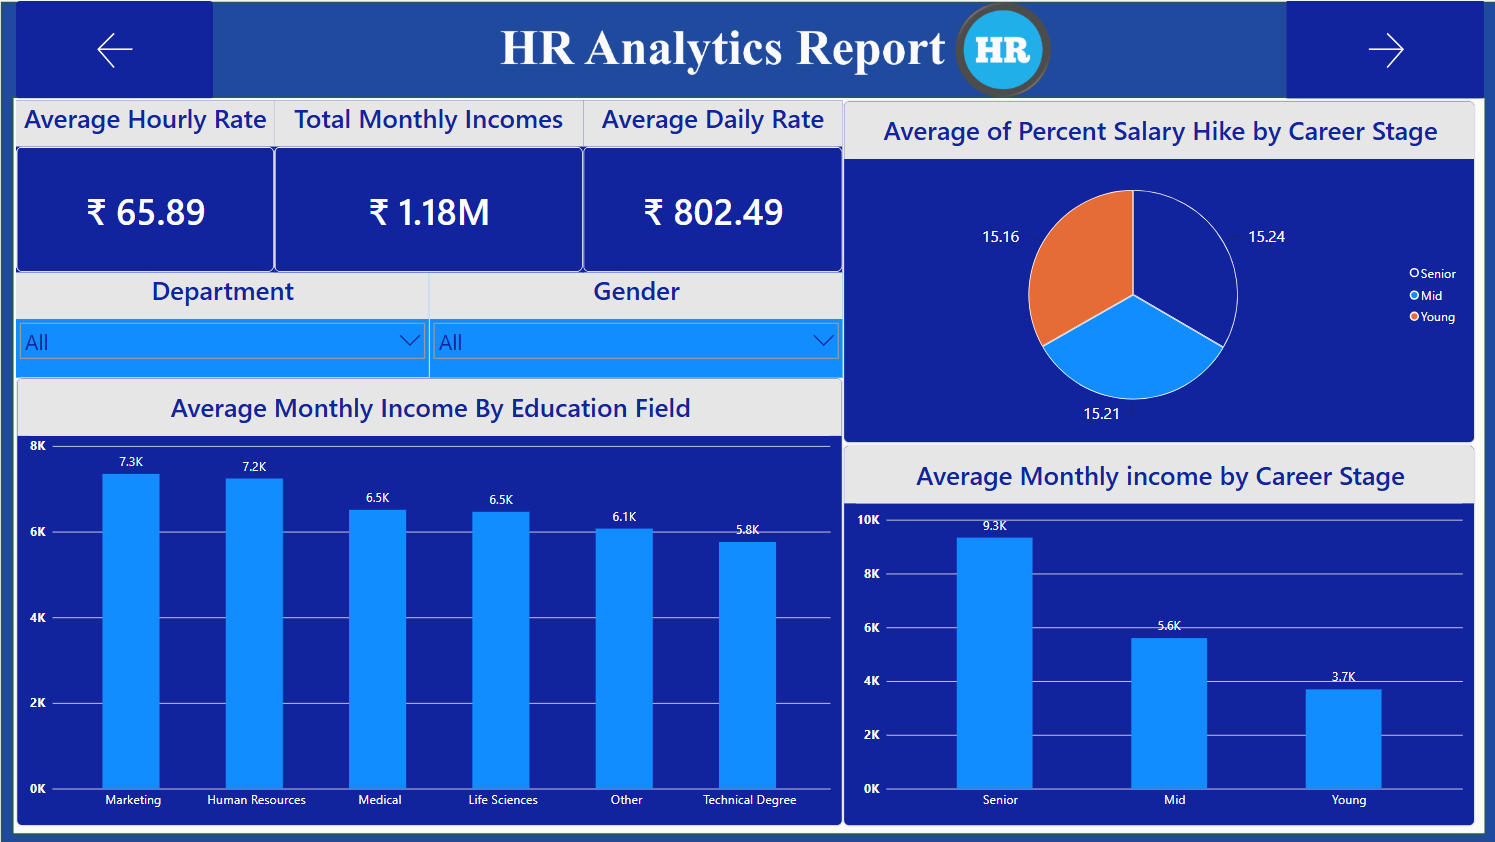

Layout of this report page (visuals, bound fields, positions):
{"tool":"powerbi","page":{"name":"Salary And Compensation ","canvas":[1920,1080],"ordinal":2},"visuals":[{"type":"clusteredColumnChart","title":"Average Monthly income by Career Stage","fields":{"Category":["HR Analytics Data.Career Stage"],"Y":["Avg(HR Analytics Data.MonthlyIncome)"]},"box":[1079.9,569.2,811.6,489.1],"z":0},{"type":"cardVisual","title":"Average Hourly Rate","fields":{"Data":["Avg(HR Analytics Data.HourlyRate)"]},"box":[19.5,127.7,331.1,220.7],"z":1000},{"type":"cardVisual","title":"Average Daily Rate","fields":{"Data":["Avg(HR Analytics Data.DailyRate)"]},"box":[746.6,127.7,333.3,220.7],"z":2000},{"type":"slicer","title":"Department","fields":{"Values":["HR Analytics Data.Department"]},"box":[19.5,348.4,530.2,134.2],"z":3000},{"type":"pieChart","title":"Average of Percent Salary Hike by Career Stage ","fields":{"Category":["HR Analytics Data.Career Stage"],"Y":["Avg(HR Analytics Data.PercentSalaryHike)"]},"box":[1079.9,127.7,811.6,439.3],"z":4000},{"type":"clusteredColumnChart","title":"Average Monthly Income By Education Field","fields":{"Category":["HR Analytics Data.EducationField"],"Y":["Avg(HR Analytics Data.MonthlyIncome)"]},"box":[19.5,482.6,1060.4,575.7],"z":5000},{"type":"slicer","title":"Gender","fields":{"Values":["HR Analytics Data.Gender"]},"box":[549.7,348.4,530.2,134.2],"z":6000},{"type":"cardVisual","title":"Total Monthly Incomes","fields":{"Data":["Sum(HR Analytics Data.DailyRate)"]},"box":[350.6,127.7,396,220.7],"z":7000},{"type":"actionButton","box":[1649.1,0,253.2,125.5],"z":7001},{"type":"actionButton","box":[19.5,0,253.2,125.5],"z":7002}]}

Visuals, with their boxes in screenshot pixels (x1, y1, x2, y2), scaled from the page's 1920x1080 canvas onto the 1495x842 screenshot:
"Average Monthly income by Career Stage" clusteredColumnChart: select_region(841, 444, 1473, 825)
"Average Hourly Rate" cardVisual: select_region(15, 100, 273, 272)
"Average Daily Rate" cardVisual: select_region(581, 100, 841, 272)
"Department" slicer: select_region(15, 272, 428, 376)
"Average of Percent Salary Hike by Career Stage " pieChart: select_region(841, 100, 1473, 442)
"Average Monthly Income By Education Field" clusteredColumnChart: select_region(15, 376, 841, 825)
"Gender" slicer: select_region(428, 272, 841, 376)
"Total Monthly Incomes" cardVisual: select_region(273, 100, 581, 272)
actionButton: select_region(1284, 0, 1481, 98)
actionButton: select_region(15, 0, 212, 98)
